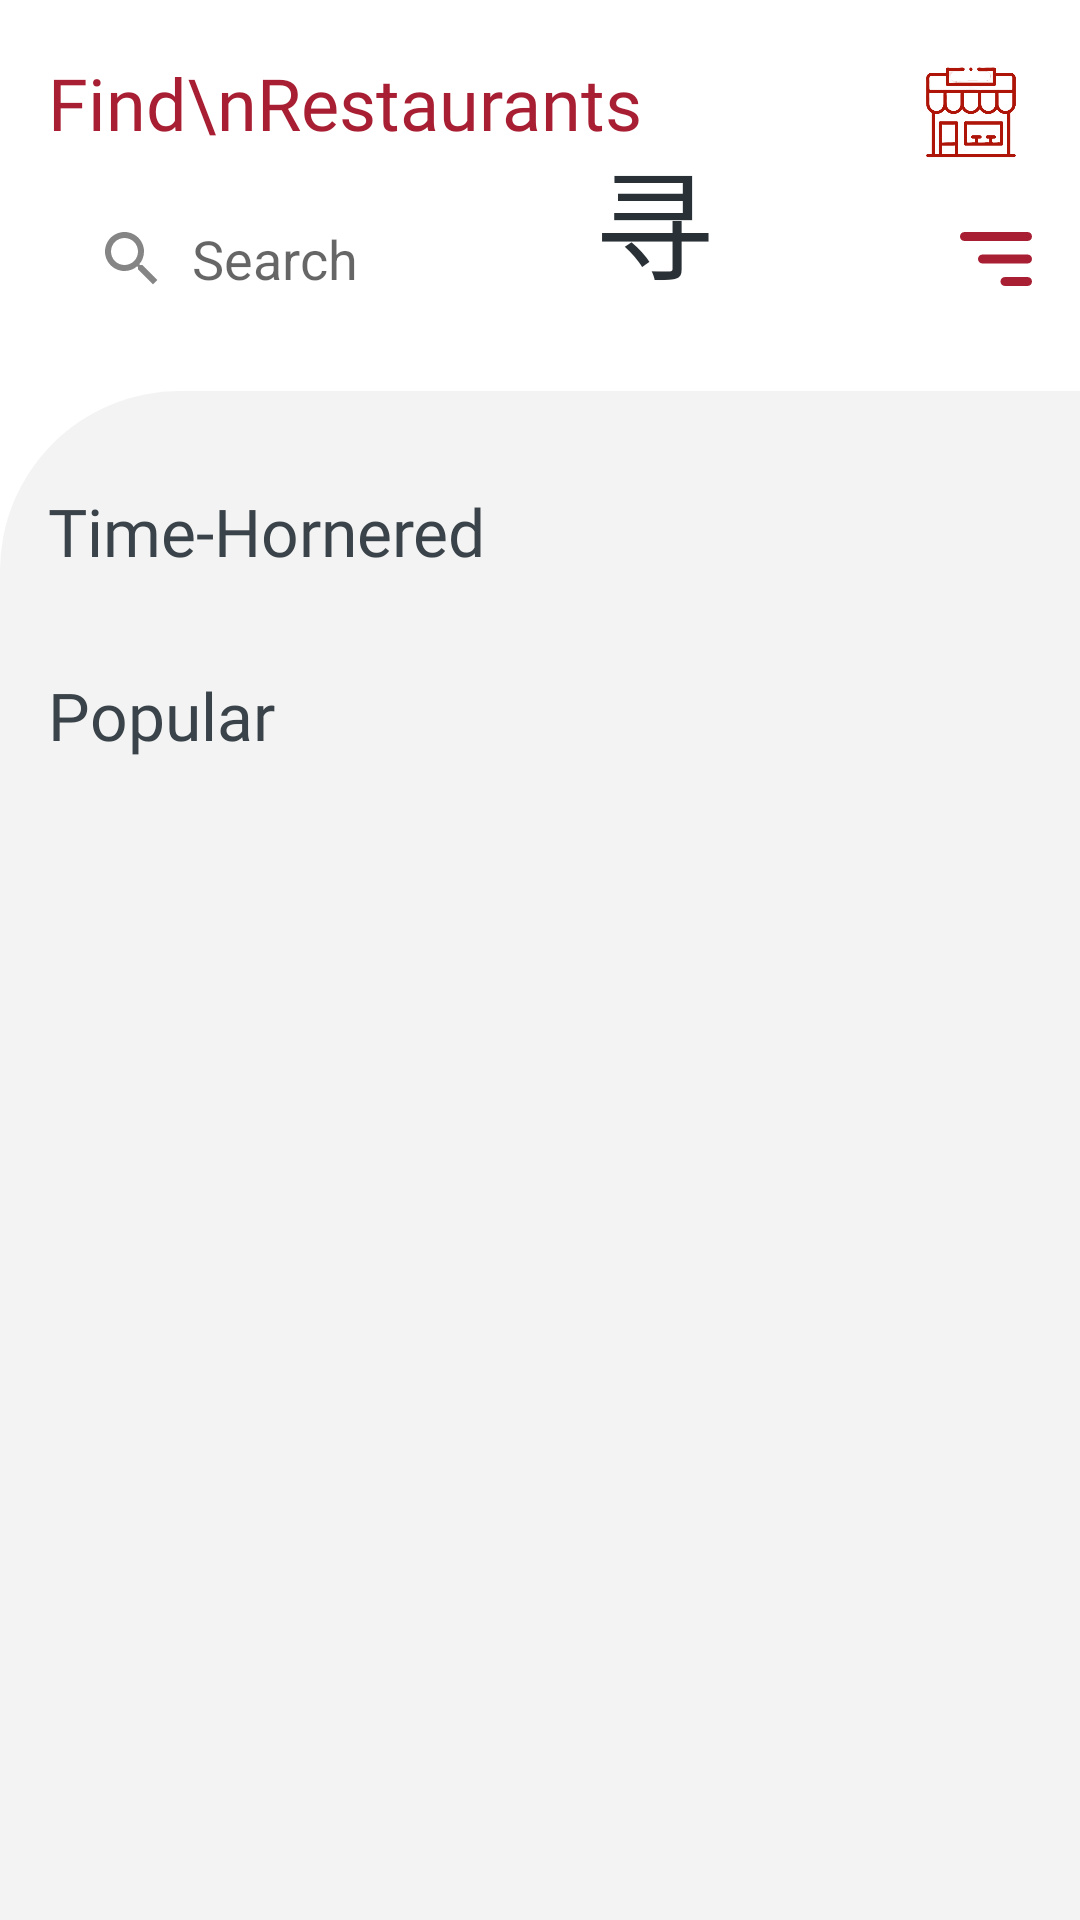

Icon bounding boxes for this 1080x1920 phone screenshot, format (x1, y1, x2, y2):
restaurant: (926, 67, 1016, 157)
short: (960, 232, 1032, 286)
